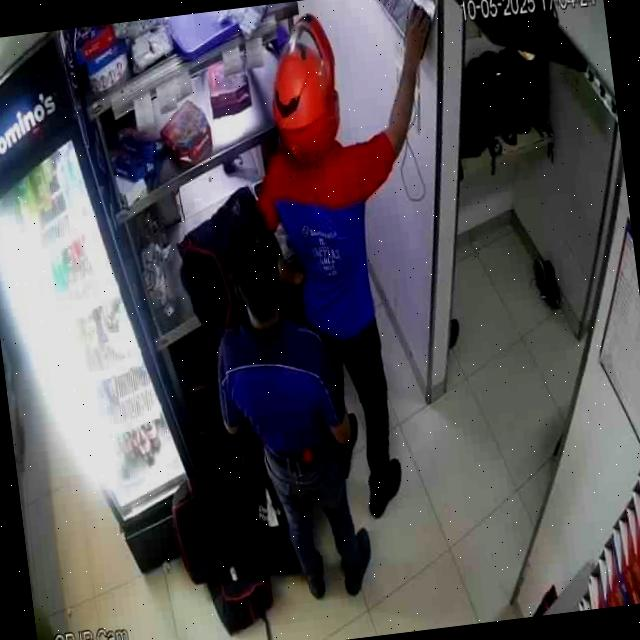helmet: (272, 12, 340, 159)
